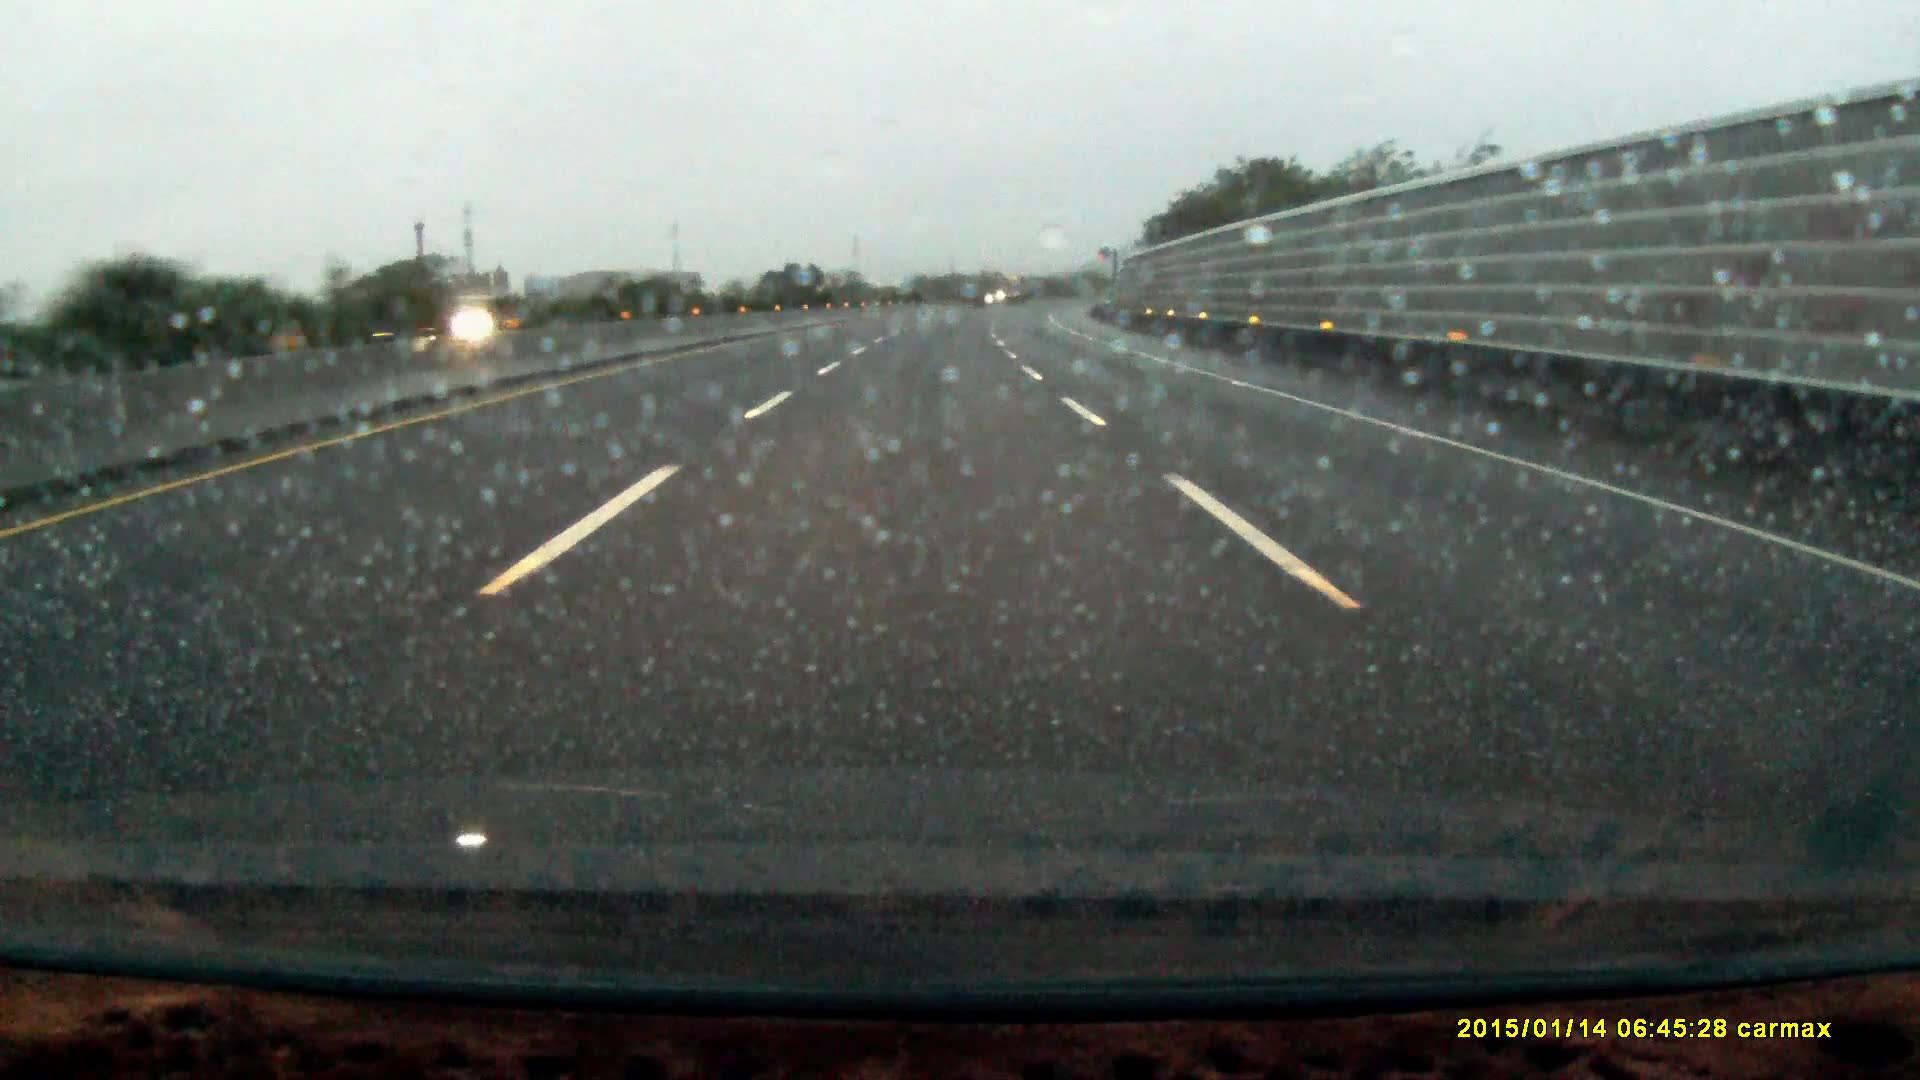vehicle: (386, 309, 475, 342)
